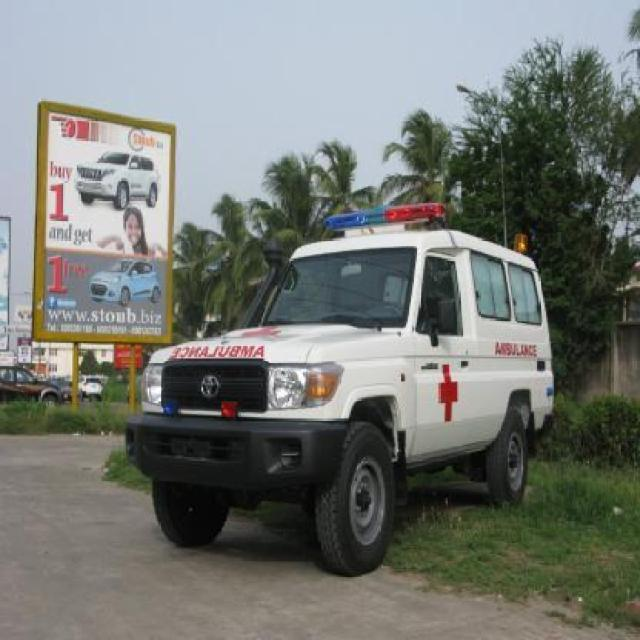emergency: (124, 199, 556, 576)
